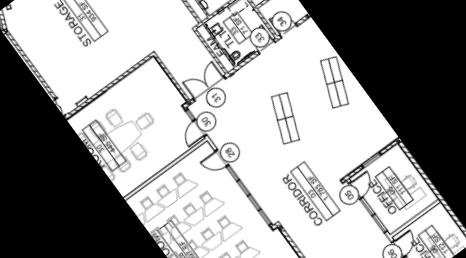door: (181, 59, 227, 102), (275, 222, 315, 258), (347, 167, 382, 201), (391, 226, 425, 258), (196, 148, 229, 180), (176, 118, 207, 149), (215, 258, 306, 258)
double door: (394, 140, 466, 245)
wall: (63, 47, 161, 122), (1, 24, 61, 102), (142, 38, 197, 108), (188, 21, 236, 83), (186, 0, 248, 35), (237, 0, 284, 46), (130, 0, 204, 26), (221, 47, 264, 82), (337, 162, 367, 187), (376, 135, 403, 159), (0, 6, 19, 34), (252, 0, 282, 12), (293, 13, 310, 30)
